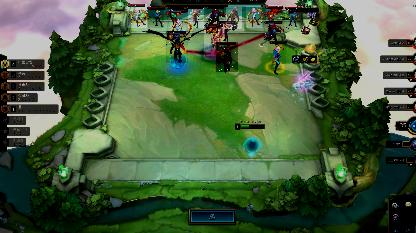1_aphelios: (188, 6, 204, 28), (218, 20, 234, 42)
1_ezreal: (148, 6, 164, 28), (285, 7, 301, 29)
1_leesin: (268, 41, 286, 75)
1_qiyana: (127, 4, 147, 28), (246, 6, 262, 28)
1_rell: (216, 42, 238, 72), (226, 7, 242, 29)
1_rengar: (263, 22, 283, 44), (206, 6, 224, 28)
1_senna: (266, 5, 282, 21)
1_swain: (166, 31, 188, 63)
2_qiyana: (170, 10, 192, 40)
2_sett: (204, 24, 224, 56)
